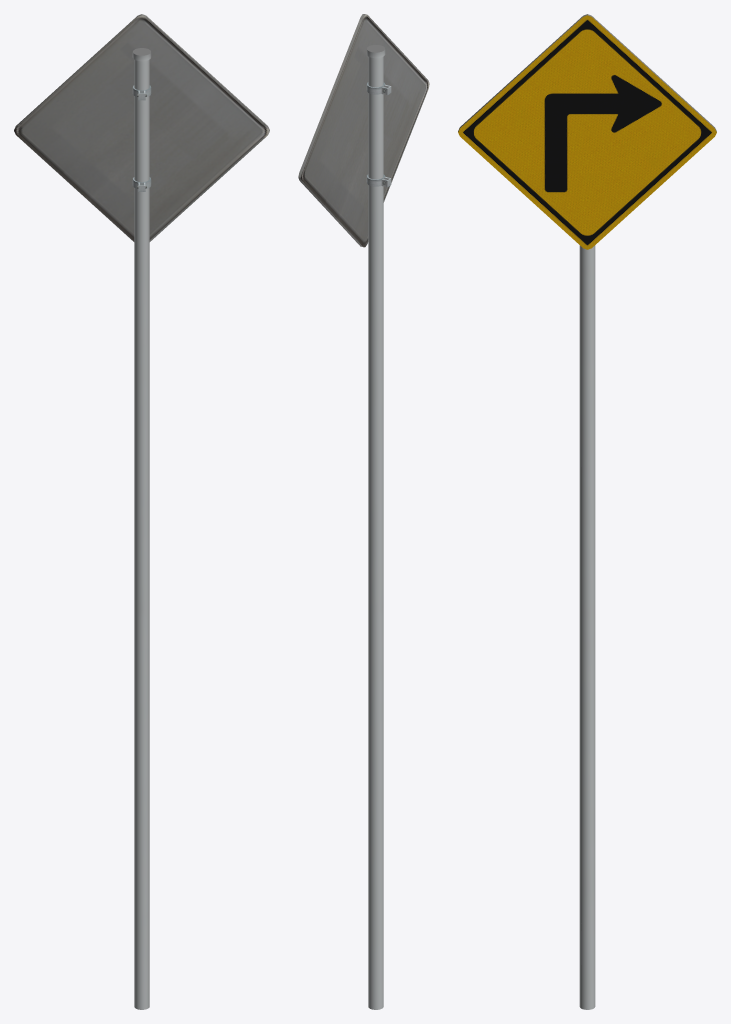
File: Preset_Sign203.fbx
3 views of the same model, side by side, from view 1: azimuth 90°, elevation 25°; view 2: azimuth 150°, elevation 25°; view 3: azimuth 270°, elevation 25° (orthographic).
Visible parts, largest first — view 1: Sign208_Back, PoleV; view 2: PoleV, Sign208_Back; view 3: Sign203, PoleV.
Part boxes in pixels (bbox=[...]): Sign208_Back: bbox=[14, 14, 269, 241]; PoleV: bbox=[132, 48, 151, 1009]; PoleV: bbox=[366, 45, 391, 1009]; Sign208_Back: bbox=[298, 14, 429, 247]; Sign203: bbox=[458, 15, 716, 249]; PoleV: bbox=[579, 245, 595, 1009].
Size of the model in its own units: 10.13 by 83 by 353.
Materials: 3 (3 with a texture image).
